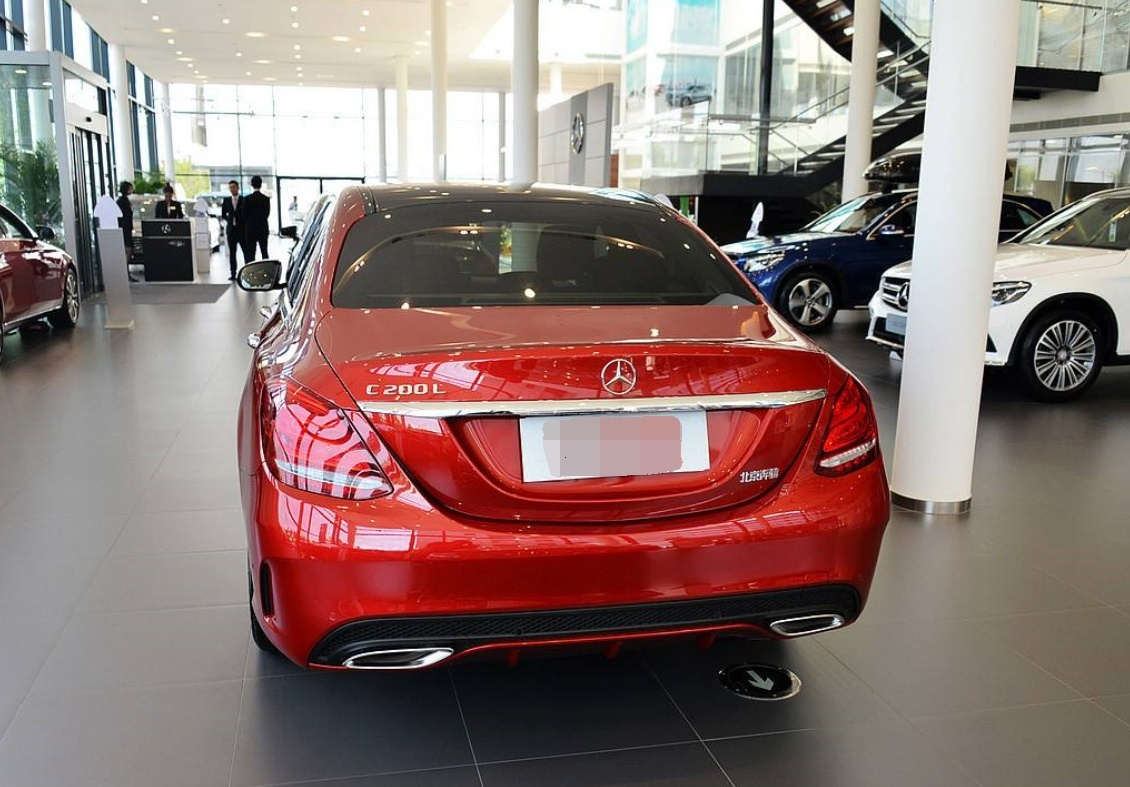family sedan: (238, 174, 848, 710)
